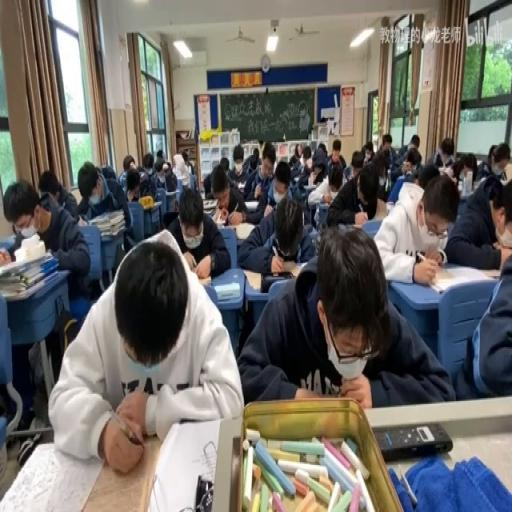calculator: (147, 415, 224, 511), (0, 440, 102, 510), (423, 262, 494, 293), (357, 216, 383, 236), (213, 282, 241, 300), (234, 222, 256, 240), (138, 196, 162, 212), (314, 202, 330, 226), (212, 205, 227, 223), (306, 191, 323, 206), (481, 266, 502, 277), (244, 199, 259, 212), (201, 196, 216, 209), (196, 273, 212, 285), (471, 176, 484, 190), (177, 171, 189, 186), (302, 181, 318, 192), (294, 259, 308, 270), (76, 215, 86, 226), (386, 202, 394, 213), (235, 181, 245, 189)
paper: (50, 230, 240, 471), (238, 223, 448, 407), (5, 175, 89, 294), (445, 169, 512, 271), (238, 185, 316, 270), (166, 184, 230, 282), (79, 161, 133, 246), (326, 159, 382, 228), (388, 142, 418, 184), (141, 225, 180, 253), (303, 148, 329, 188), (154, 155, 177, 192), (229, 145, 251, 181), (374, 132, 394, 170), (434, 135, 456, 167), (416, 162, 441, 189), (118, 154, 138, 186), (288, 145, 305, 179), (326, 141, 346, 169), (368, 196, 387, 220), (450, 156, 466, 182), (180, 149, 193, 175), (487, 142, 498, 169), (342, 160, 356, 180), (362, 141, 374, 162), (142, 152, 154, 172), (101, 164, 117, 179), (262, 158, 274, 178), (408, 132, 419, 150), (259, 142, 267, 164), (317, 142, 326, 158), (219, 155, 229, 169), (302, 150, 310, 164), (251, 145, 259, 158), (155, 149, 164, 158), (164, 162, 170, 174), (128, 161, 134, 169), (295, 147, 301, 155)
person: (374, 420, 451, 460), (194, 474, 214, 509), (261, 273, 294, 293)
